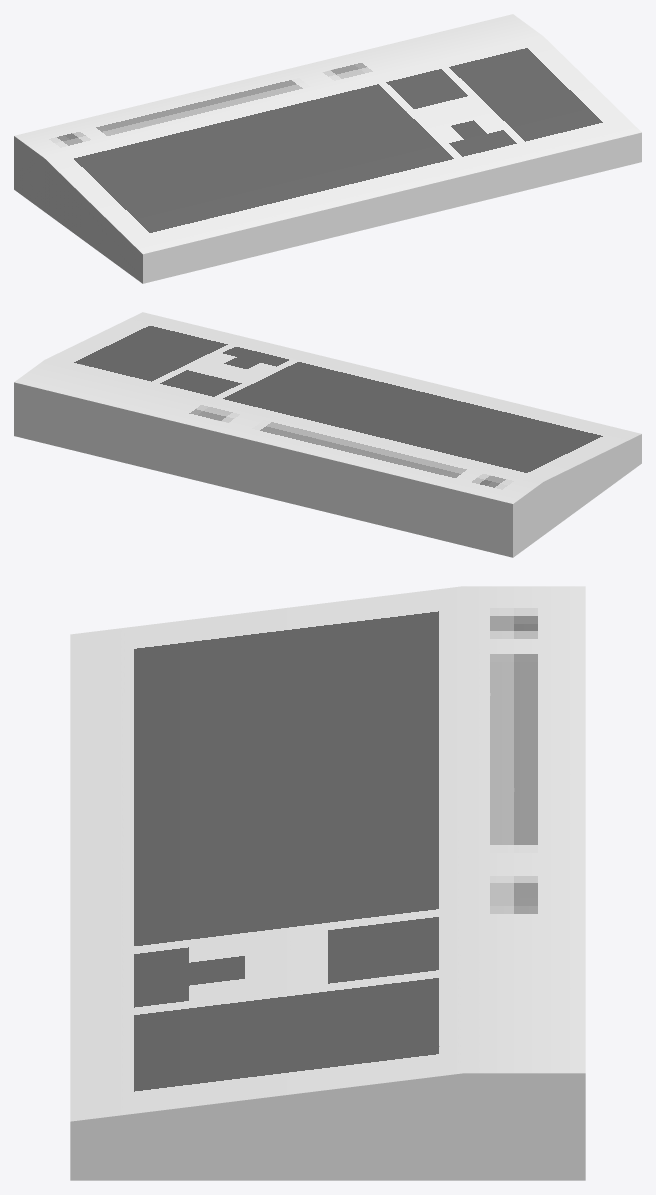
The model's file is Computer_Keyboard.fbx.
3 views of the same model, one above another, from view 1: azimuth 30°, elevation 25°; view 2: azimuth 150°, elevation 25°; view 3: azimuth 270°, elevation 25° (orthographic). The views are drawn at different scales.
Parts seen in each view (by area): view 1: polySurface1; view 2: polySurface1; view 3: polySurface1.
Part boxes in pixels (x1,y1,x2,y2): polySurface1: [14, 14, 641, 283]; polySurface1: [14, 312, 641, 557]; polySurface1: [70, 586, 585, 1180].
Size of the model in its own units: 1.56 by 0.1607 by 0.6986.
Materials: 1 (1 with a texture image).
